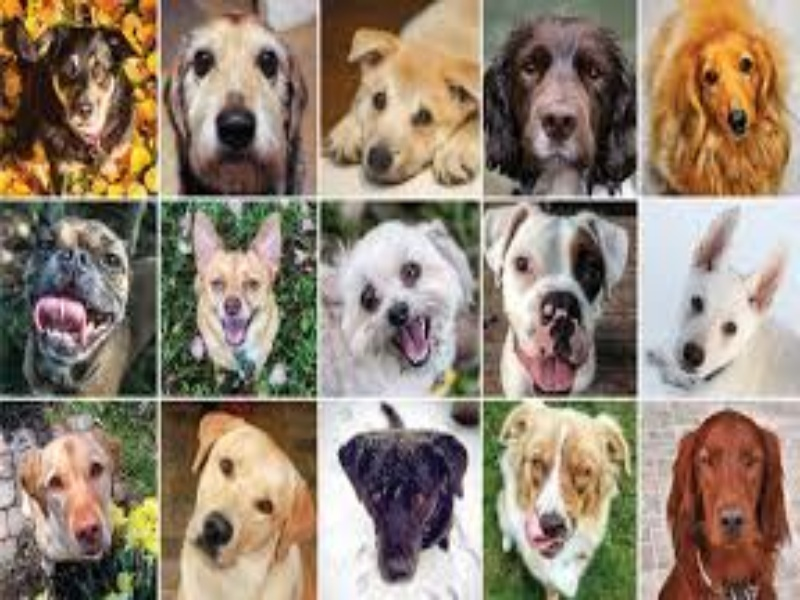dog: (486, 201, 636, 396), (647, 8, 792, 194), (492, 401, 631, 594), (652, 208, 796, 390), (487, 15, 640, 185), (659, 409, 793, 598), (324, 219, 469, 392), (169, 414, 312, 589), (169, 13, 308, 189), (328, 21, 478, 183), (336, 422, 472, 589), (23, 220, 142, 398), (186, 211, 296, 383), (27, 23, 140, 187), (15, 427, 133, 568)
